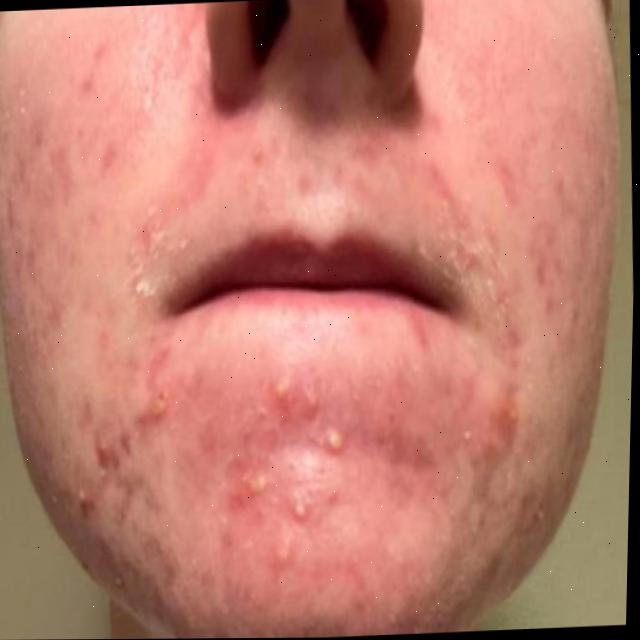Acne: (55, 349, 440, 586), (7, 46, 206, 337), (416, 164, 568, 378)
